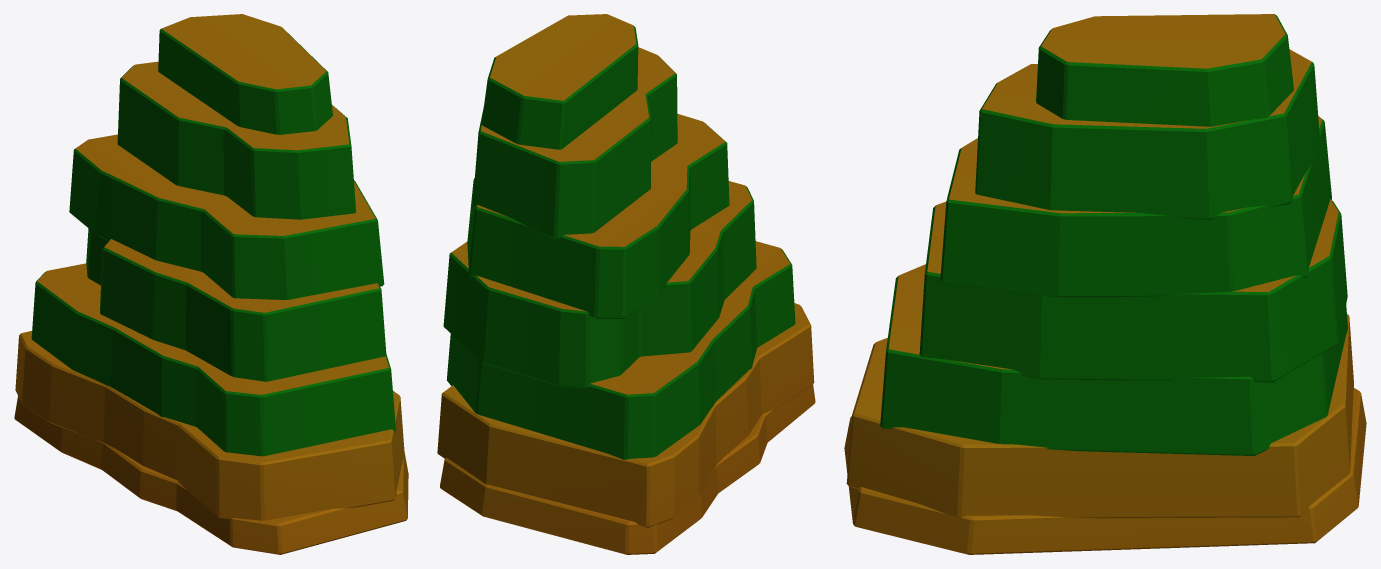
File: right_buttress.glb
The picture shows the model from 3 angles, left to right: view 1: azimuth 30°, elevation 25°; view 2: azimuth 150°, elevation 25°; view 3: azimuth 270°, elevation 25°; orthographic projection. The views are drawn at different scales.
Visible parts, largest first — view 1: ButtressMesh; view 2: ButtressMesh; view 3: ButtressMesh.
Part boxes in pixels (x1,y1,x2,y2): ButtressMesh: (14,14,408,554); ButtressMesh: (437,14,815,554); ButtressMesh: (844,14,1366,554).
Size of the model in its own units: 4.32 by 6.47 by 6.53.
